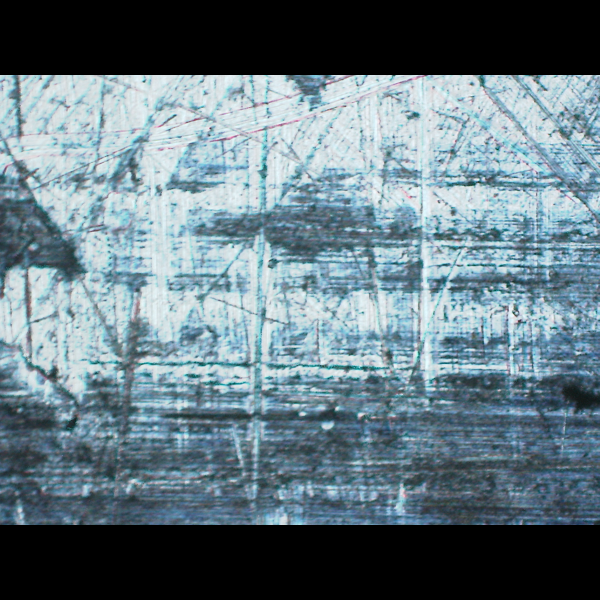d: (7, 75, 599, 455)
